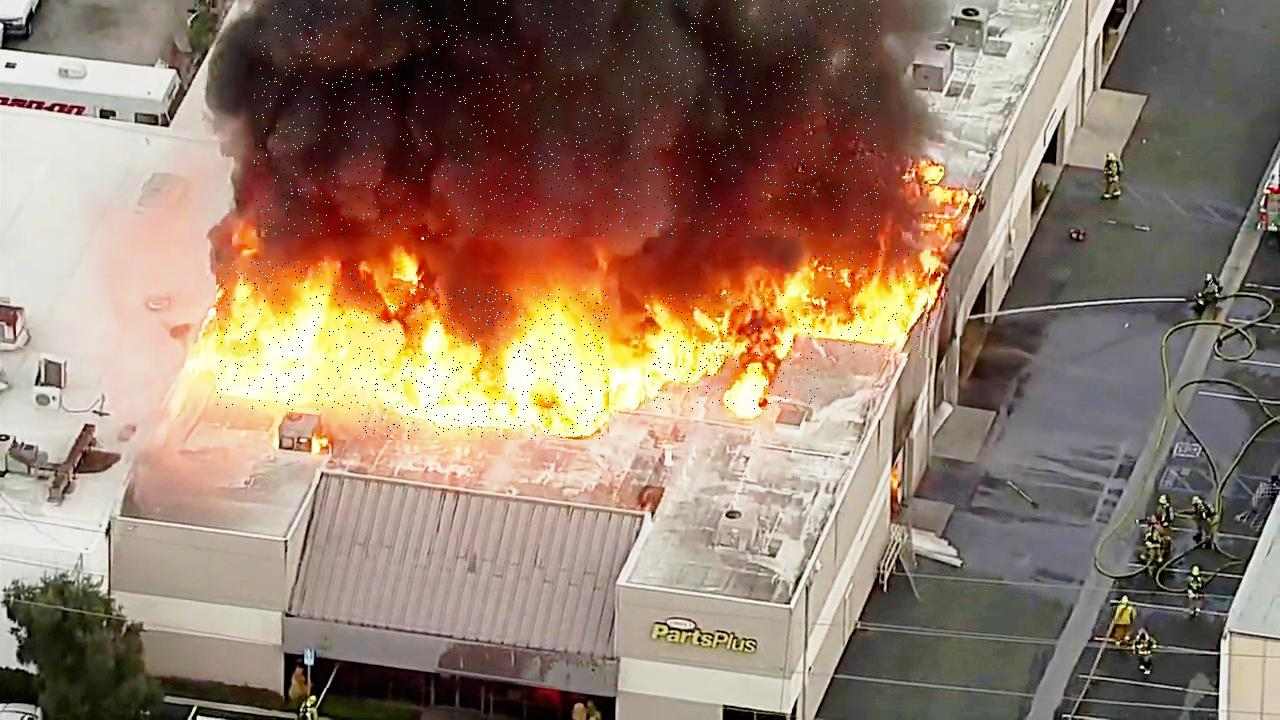fire: (359, 287, 609, 440), (217, 262, 369, 411), (646, 295, 819, 410), (815, 250, 934, 358)
smoke: (255, 0, 881, 237)
